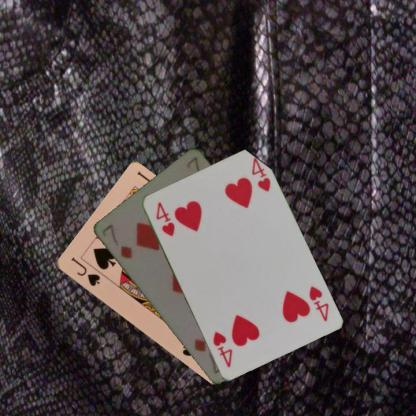4h: (306, 283, 330, 323), (152, 199, 176, 238)
7d: (99, 221, 133, 260)
Js: (68, 254, 101, 288)
